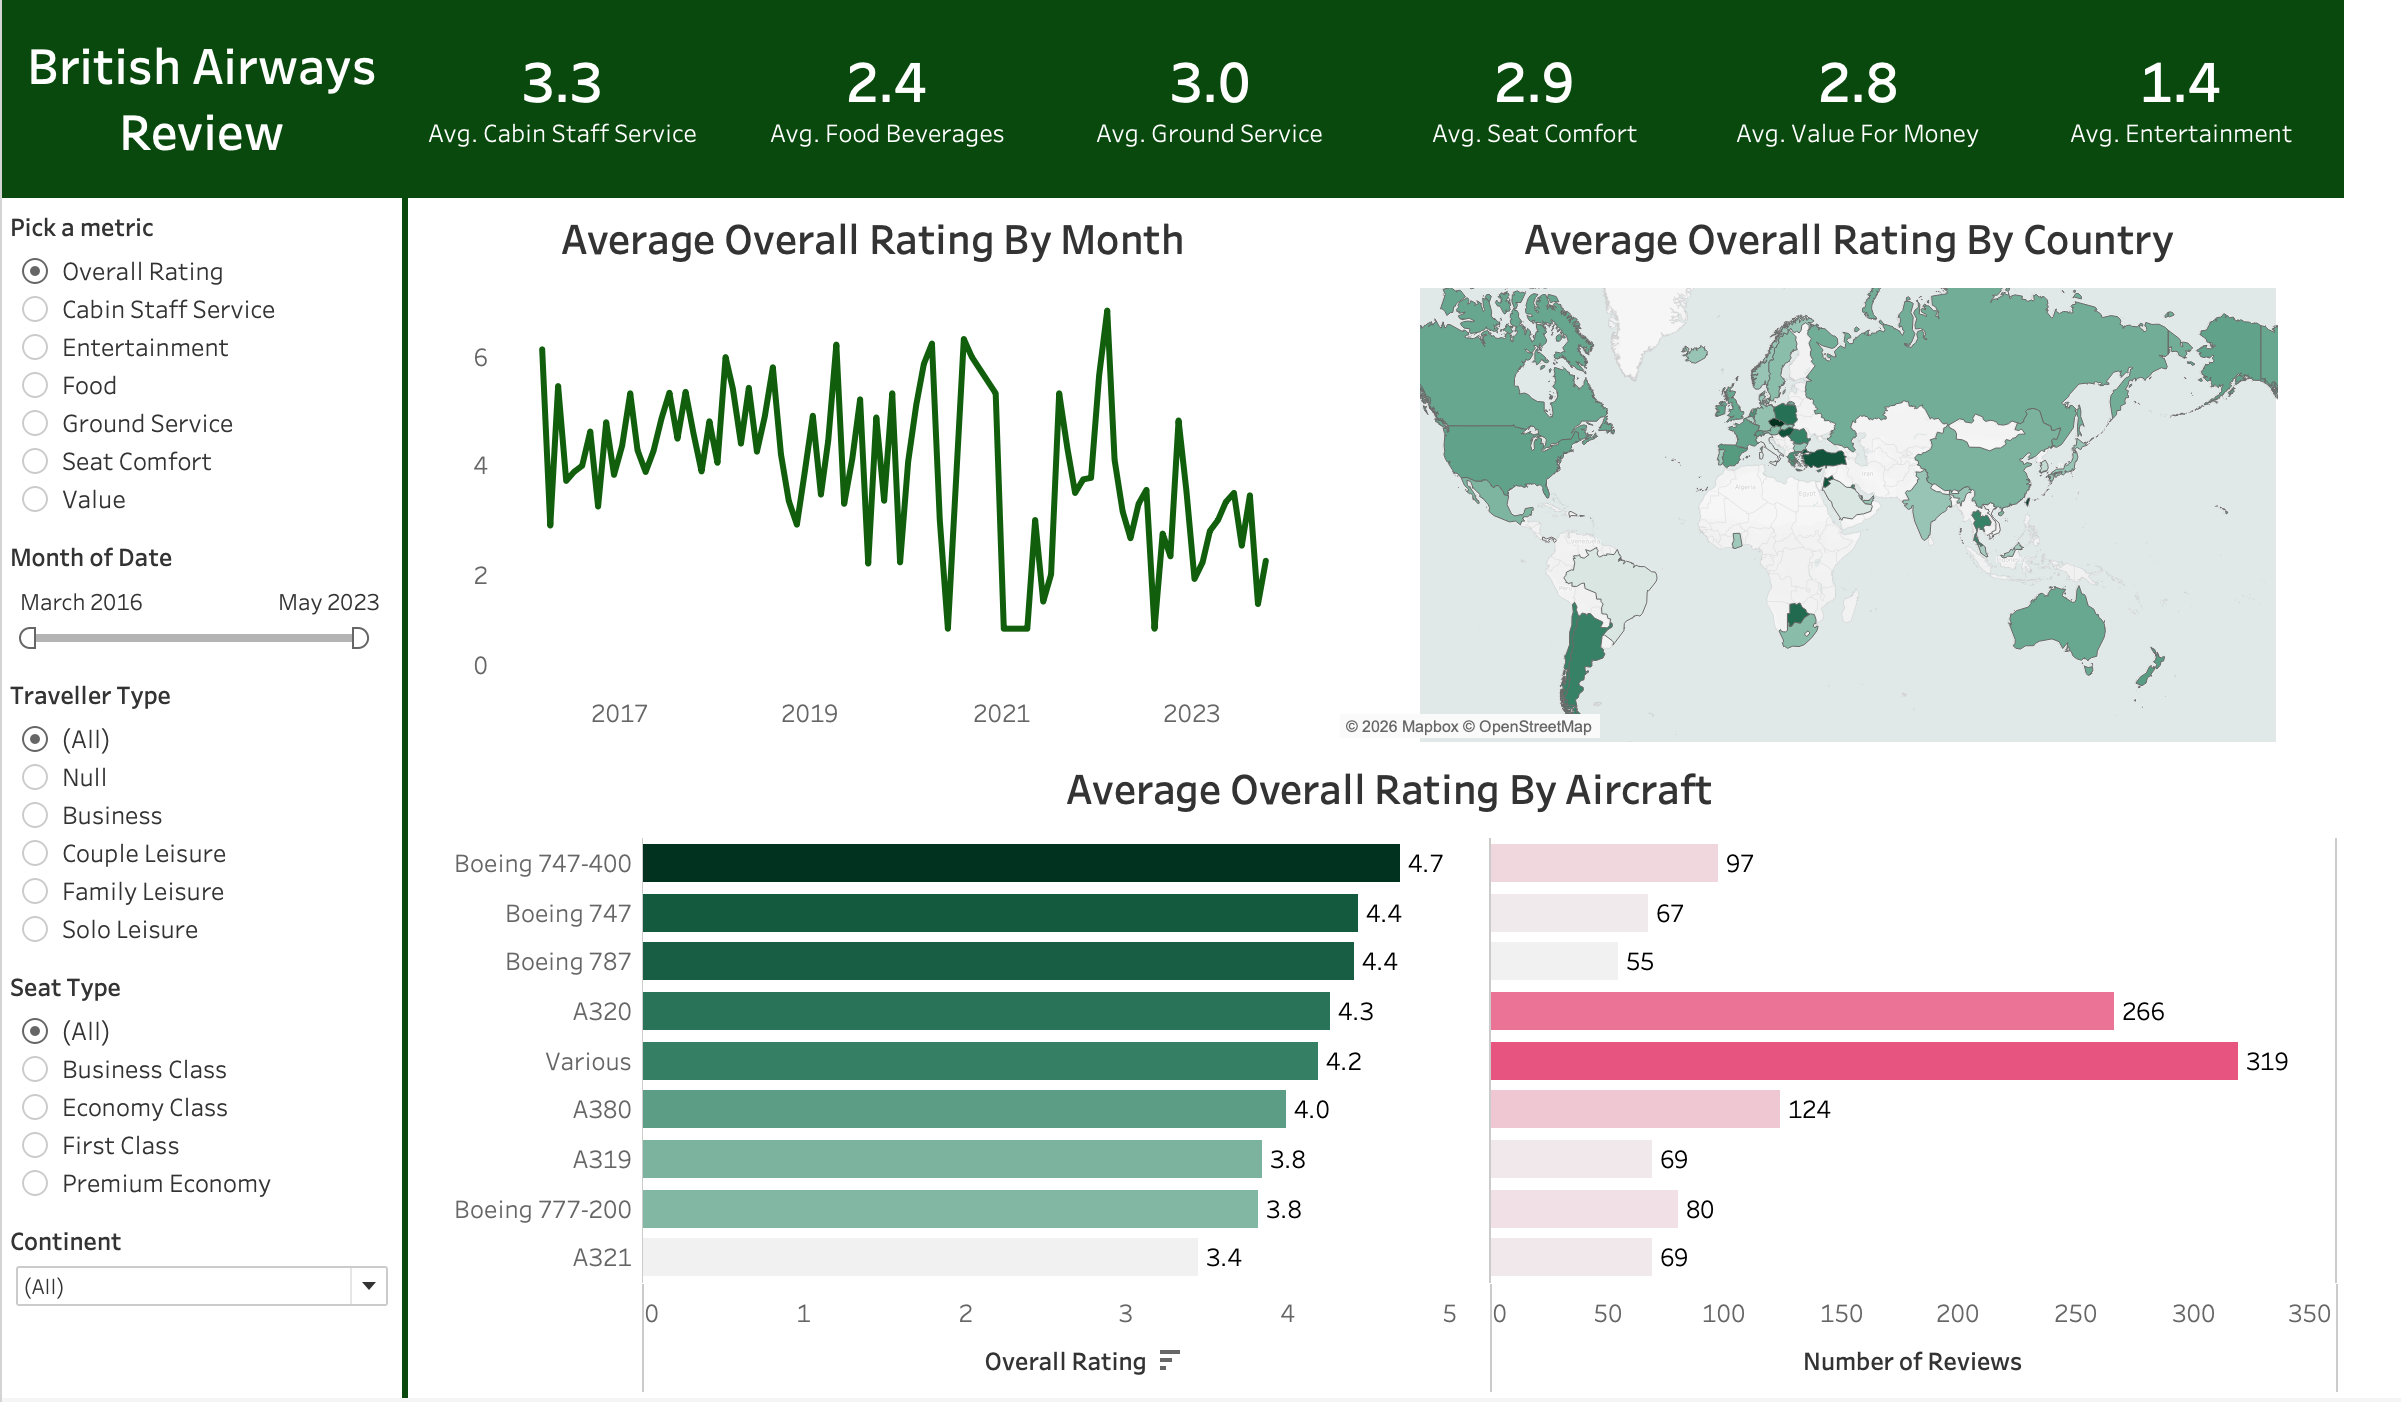

The page's visual inventory and layout, read from the dashboard file:
{"tool":"tableau","page":{"name":"Dashboard 1","canvas":[1200,700],"ordinal":0},"visuals":[{"type":"text","box":[0,0,200,100]},{"type":"worksheet","title":"Sheet 2","mark":"Automatic","box":[200,0,971,100]},{"type":"parameter","param":"[Parameters].[Parameter 1]","box":[0,102,200,165]},{"type":"worksheet","title":"Sheet 3","mark":"Automatic","rows":["Calculation_1217100571811840"],"cols":["date"],"box":[220,102,431,270]},{"type":"worksheet","title":"Sheet 1","mark":"Automatic","box":[666,102,515,270]},{"type":"filter","title":"Sheet 1","param":"[federated.0x5x2k00nzam891eu6twp140k7w8].[tmn:date:qk]","box":[0,267,200,69]},{"type":"filter","title":"Sheet 1","param":"[federated.0x5x2k00nzam891eu6twp140k7w8].[none:traveller_type:nk]","box":[0,336,200,146]},{"type":"worksheet","title":"Sheet 4","mark":"Automatic","cols":["Calculation_1217100571811840","ba_reviews.csv_452A3FF4711845A99672E179E9E20271"],"box":[220,377,948,321]},{"type":"filter","title":"Sheet 1","param":"[federated.0x5x2k00nzam891eu6twp140k7w8].[none:seat_type:nk]","box":[0,482,200,127]},{"type":"filter","title":"Sheet 1","param":"[federated.0x5x2k00nzam891eu6twp140k7w8].[none:Continent:nk]","box":[0,609,200,52]}]}

Visuals, with their boxes in screenshot pixels (x1, y1, x2, y2), scaled from the page's 1200x700 canvas onto the 2401x1402 screenshot:
text: x1=0 y1=0 x2=400 y2=200
"Sheet 2" worksheet: x1=400 y1=0 x2=2343 y2=200
parameter: x1=0 y1=204 x2=400 y2=535
"Sheet 3" worksheet: x1=440 y1=204 x2=1303 y2=745
"Sheet 1" worksheet: x1=1333 y1=204 x2=2363 y2=745
"Sheet 1" filter: x1=0 y1=535 x2=400 y2=673
"Sheet 1" filter: x1=0 y1=673 x2=400 y2=965
"Sheet 4" worksheet: x1=440 y1=755 x2=2337 y2=1398
"Sheet 1" filter: x1=0 y1=965 x2=400 y2=1220
"Sheet 1" filter: x1=0 y1=1220 x2=400 y2=1324
